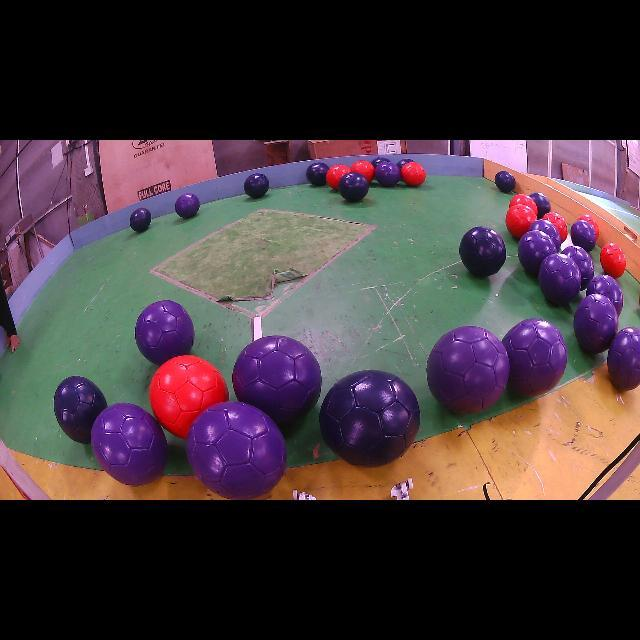B: (320, 370, 420, 466), (54, 376, 108, 444), (459, 226, 506, 278), (339, 172, 369, 202), (244, 174, 269, 199), (529, 192, 551, 219), (306, 162, 329, 186), (130, 208, 151, 232), (495, 171, 515, 192), (371, 158, 390, 168), (396, 159, 414, 169)
P: (186, 401, 286, 499), (232, 335, 321, 424), (428, 326, 509, 414), (91, 402, 169, 486), (502, 319, 568, 396), (135, 300, 195, 365), (574, 294, 619, 354), (539, 254, 581, 305), (608, 328, 640, 390), (518, 230, 558, 275), (586, 274, 624, 314), (562, 245, 594, 289), (528, 219, 561, 251), (570, 220, 596, 252), (375, 161, 401, 186), (175, 194, 200, 218)
R: (149, 355, 229, 439), (505, 204, 538, 239), (600, 242, 626, 279), (542, 212, 568, 241), (401, 161, 426, 186), (326, 165, 351, 190), (509, 194, 538, 215), (578, 214, 600, 238), (351, 160, 375, 182)
